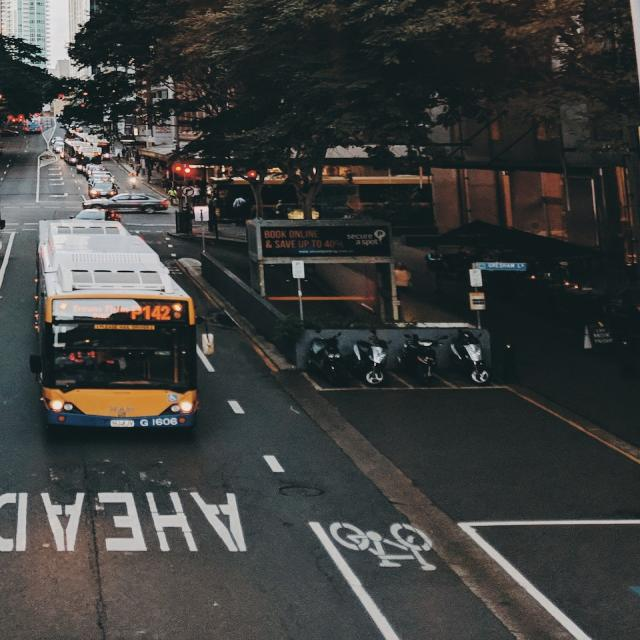bus: (34, 214, 200, 433), (0, 190, 5, 281)
car: (81, 192, 168, 214), (90, 181, 117, 199)
motorbike: (444, 330, 494, 385), (396, 331, 440, 388), (351, 330, 393, 387), (308, 330, 347, 386)
